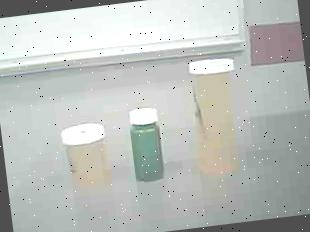Bottle A: (176, 52, 255, 188)
Bottle B: (55, 115, 121, 191)
Bottle C: (117, 94, 172, 189)
